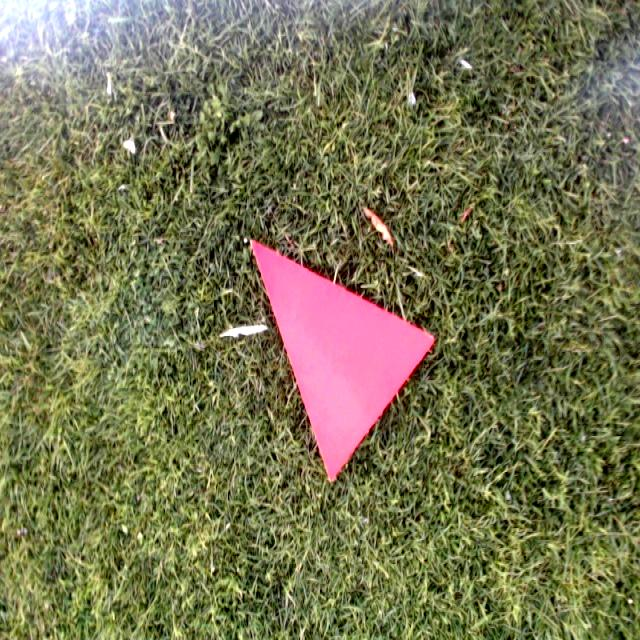red_triangle: (248, 238, 434, 485)
